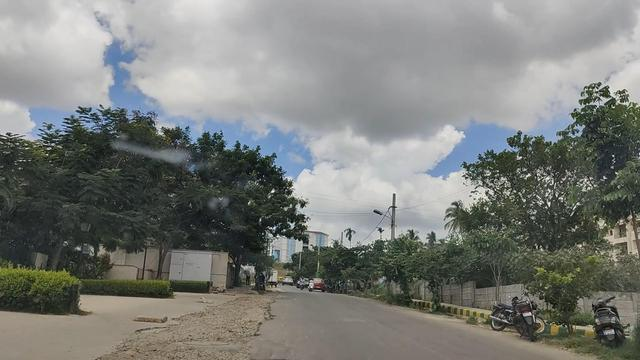RoadDamages: (152, 314, 288, 360), (248, 291, 308, 320)
